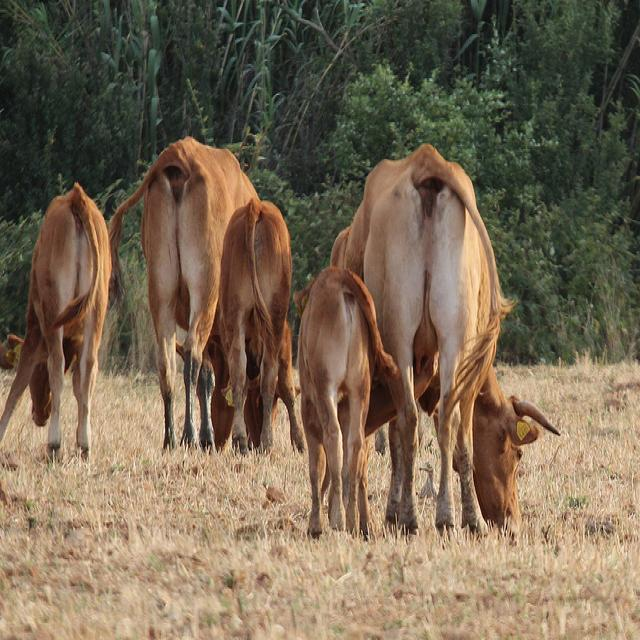cow: (328, 143, 560, 535), (110, 132, 264, 453), (0, 182, 110, 463), (293, 266, 397, 537), (217, 196, 308, 457)
